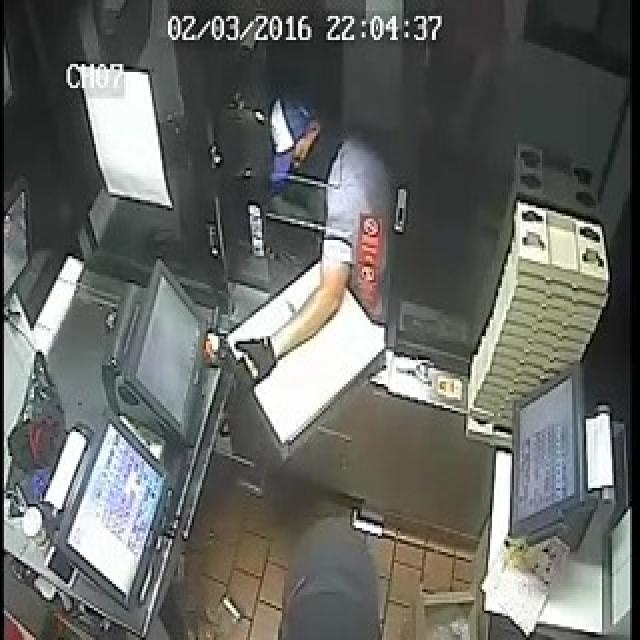thief: (270, 116, 372, 267)
